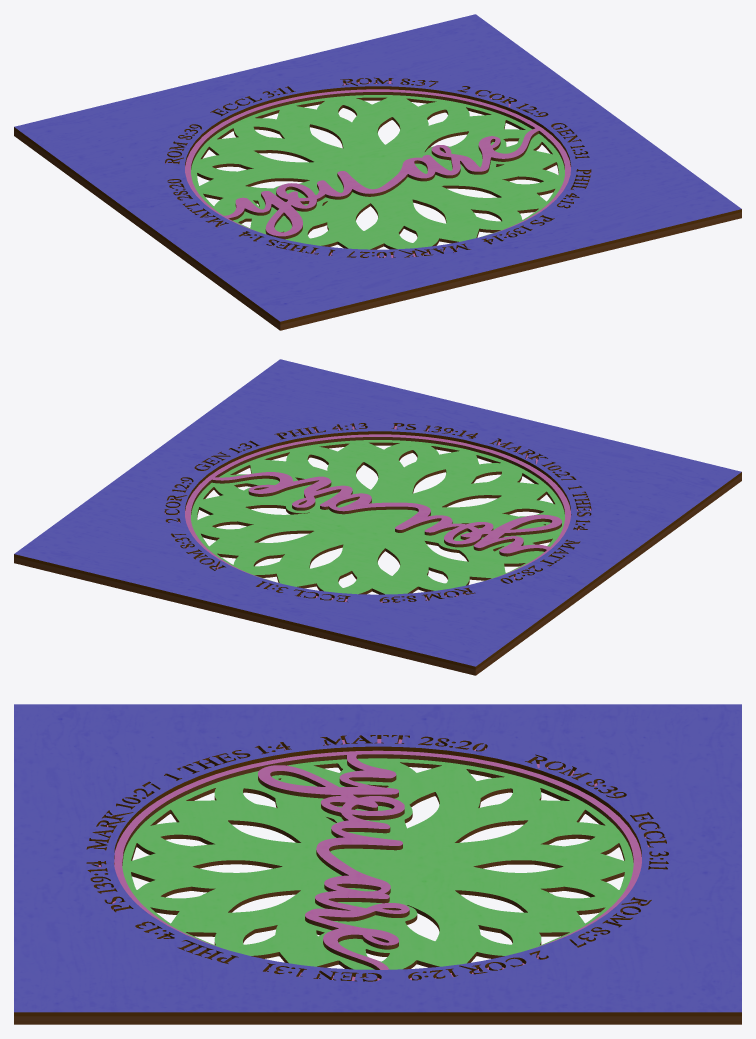
3 views of the same model, one above another, from view 1: azimuth 30°, elevation 25°; view 2: azimuth 150°, elevation 25°; view 3: azimuth 270°, elevation 25° (orthographic). The views are drawn at different scales.
Visible parts, largest first — view 1: Plane 1, Plane 2, Plane 3; view 2: Plane 1, Plane 2, Plane 3; view 3: Plane 1, Plane 2, Plane 3.
Part boxes in pixels (box(x1,y1,x2,y2)): Plane 1: box(14, 14, 741, 324); Plane 2: box(14, 95, 741, 330); Plane 3: box(14, 81, 741, 327); Plane 1: box(14, 359, 741, 669); Plane 2: box(14, 440, 741, 675); Plane 3: box(14, 426, 741, 672); Plane 1: box(14, 704, 741, 1016); Plane 2: box(14, 758, 741, 1024); Plane 3: box(14, 739, 741, 1020).
Bounding box in the file's own units: 0.2027 × 0.00381 × 0.2024.
Materials: 6 (3 with a texture image).
